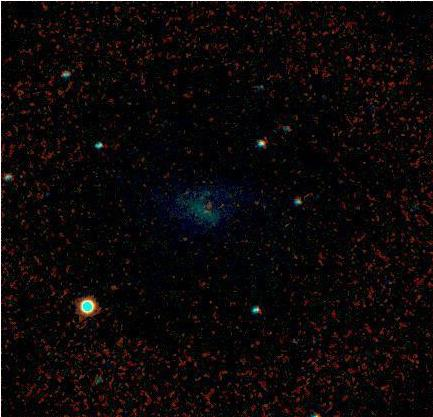star: (189, 193, 219, 223)
